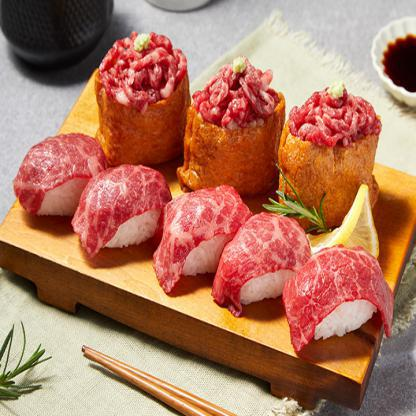beef: (304, 244, 382, 295), (24, 132, 105, 170), (170, 184, 236, 228), (88, 170, 162, 206), (234, 220, 294, 258)
